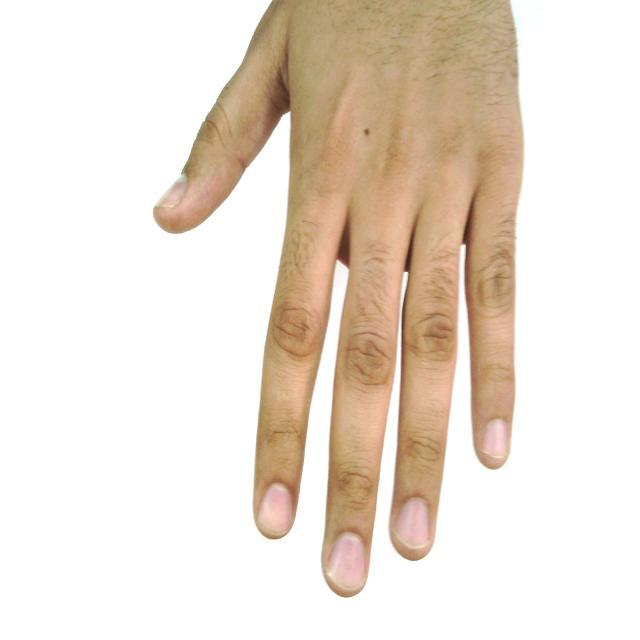Fingernail: (329, 533, 364, 590), (259, 484, 292, 534), (396, 499, 430, 547), (482, 420, 508, 457), (155, 178, 185, 208)
